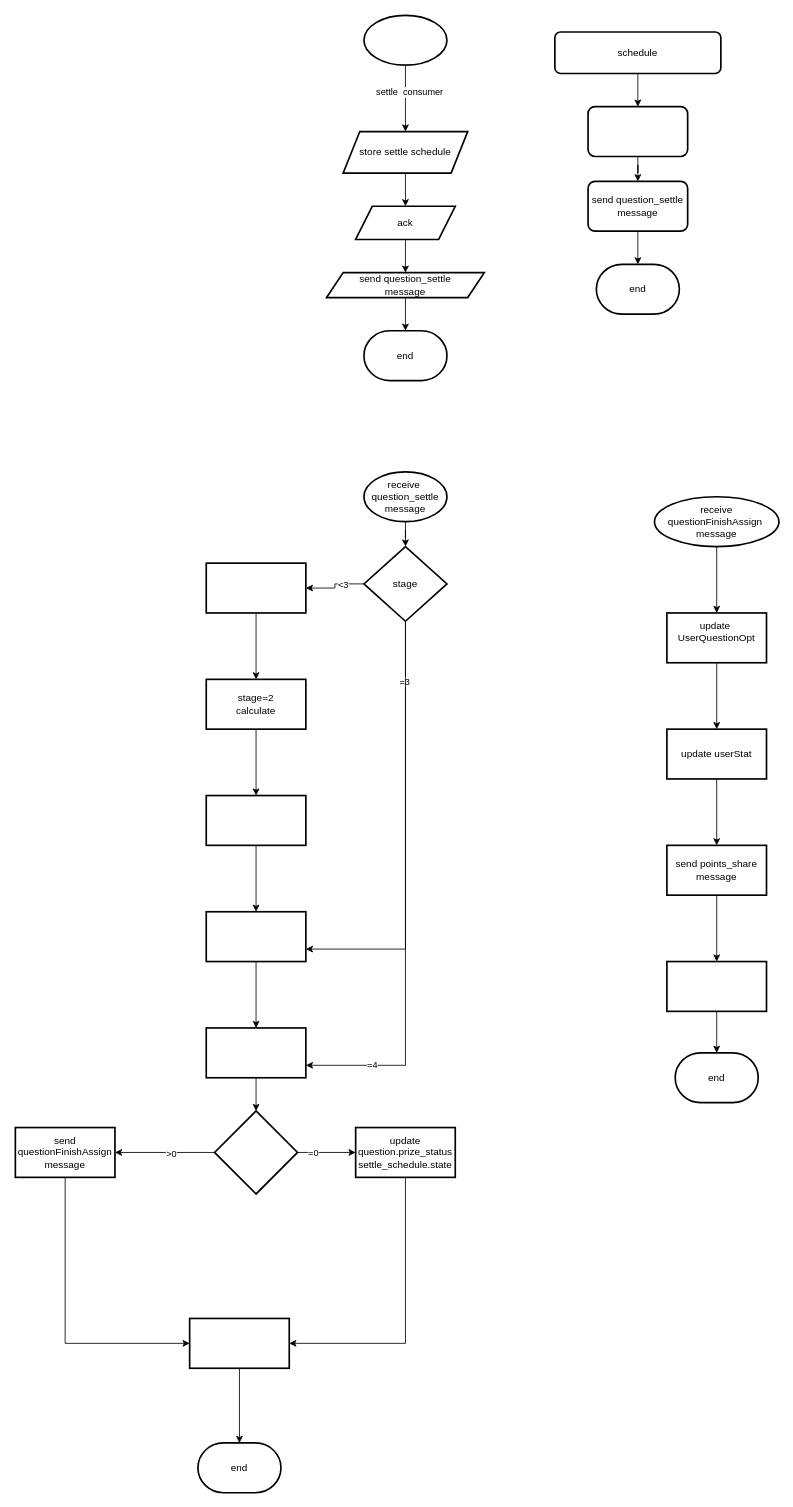
This 793x1507 diagram has some shape labels left out. Each missing label, with the centre of its shape:
cnt: point 255,1152
find task in settle_schedule table: point 637,131
find unassign data: point 255,1052
question_finished message: point 405,40
record execute history: point 239,1343
send stationMessage: point 716,986
stage=1 fetch data: point 255,587
stage=3 store: point 255,820
stage=4 risk: point 255,936
